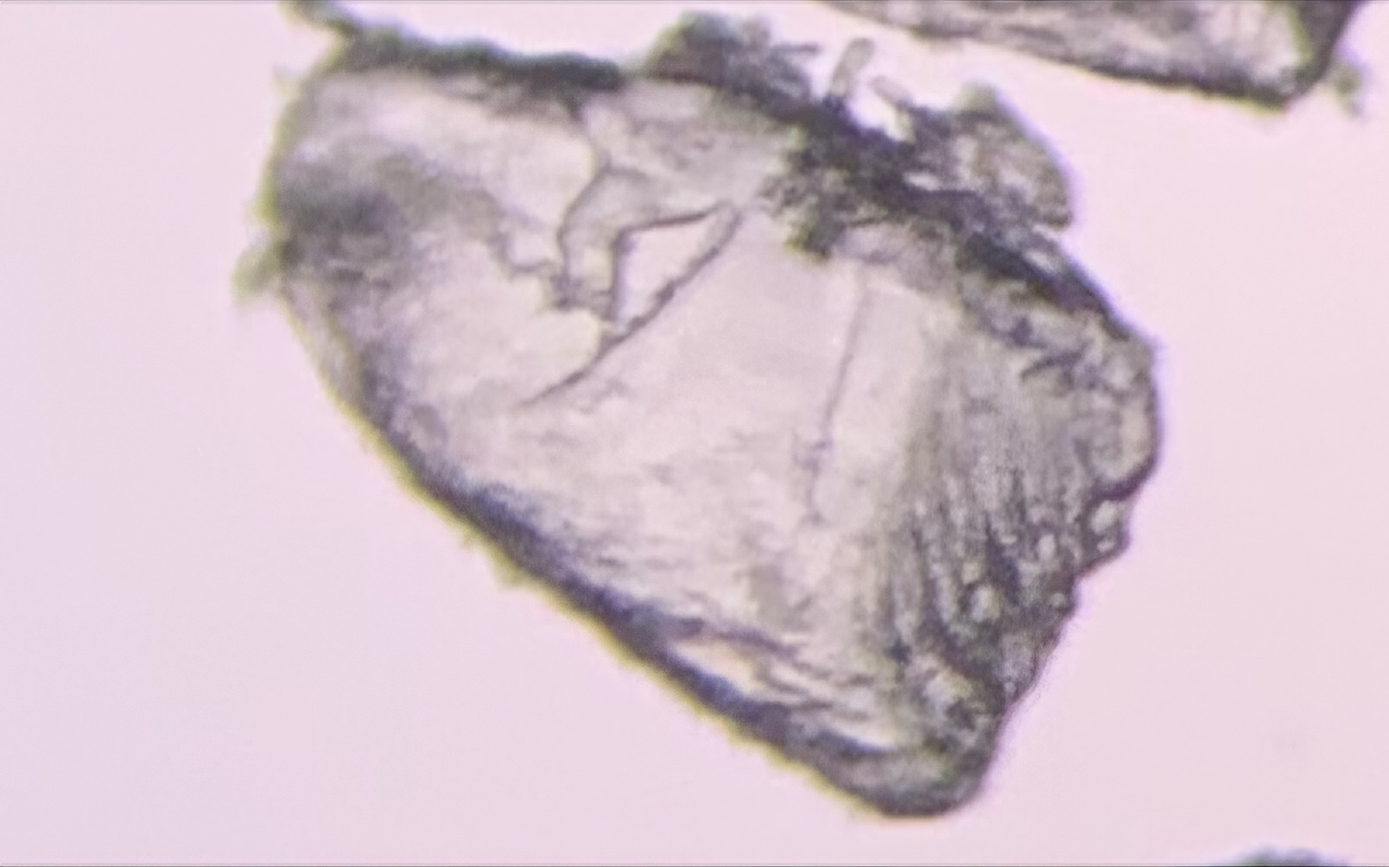microplastic: (226, 1, 1166, 826), (810, 1, 1379, 125)
